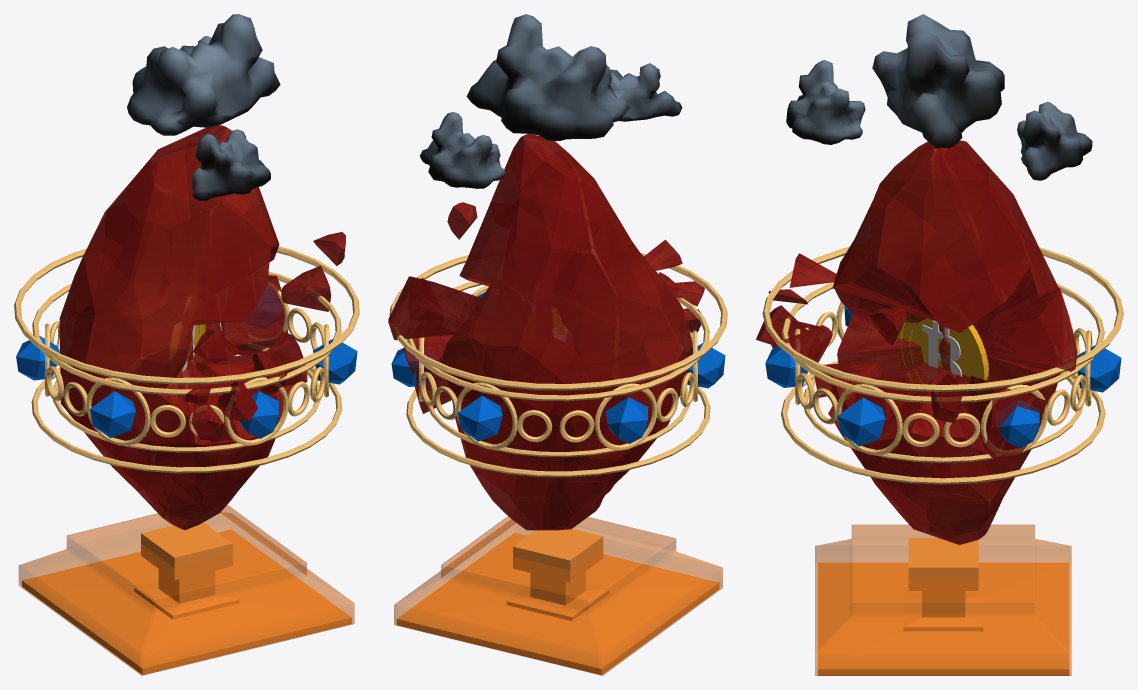
File: JadeArdinals_934.glb
3 renders of one model, left to right at view 1: azimuth 30°, elevation 25°; view 2: azimuth 150°, elevation 25°; view 3: azimuth 270°, elevation 25°, orthographic. The views are drawn at different scales.
Parts seen in each view (by area): view 1: BrokenRed, GlassCoper, LapizBelt, DarkCloud, CoinInside; view 2: BrokenRed, GlassCoper, LapizBelt, DarkCloud; view 3: BrokenRed, GlassCoper, LapizBelt, DarkCloud, CoinInside.
Boxes of the visible parts, x1,y1,x2,y2 form: BrokenRed: (59,125,345,530); GlassCoper: (18,505,354,675); LapizBelt: (14,246,359,473); DarkCloud: (127,14,280,201); CoinInside: (169,297,205,403); BrokenRed: (388,133,704,530); GlassCoper: (394,516,722,675); LapizBelt: (389,252,727,477); DarkCloud: (420,14,682,188); BrokenRed: (756,140,1077,544); GlassCoper: (815,524,1071,675); LapizBelt: (762,247,1123,484); DarkCloud: (786,14,1092,180); CoinInside: (897,312,988,383).
Size of the model in its own units: 2.82 by 5.28 by 2.87.
Materials: 8 (2 with a texture image).
